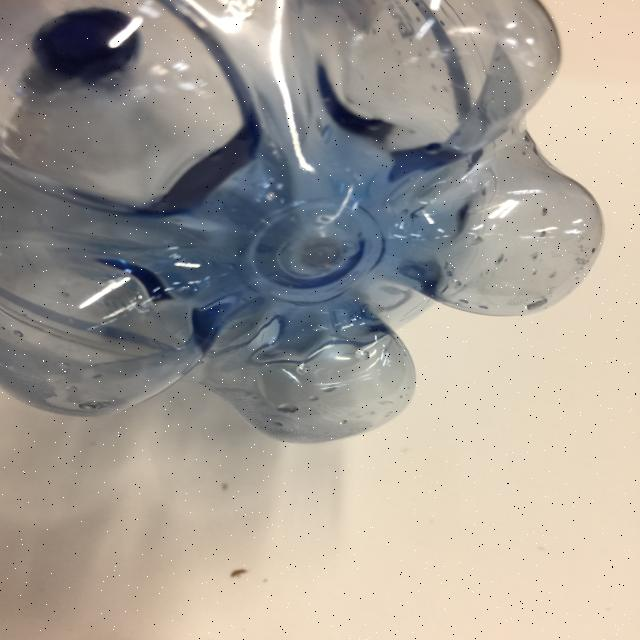plastic: (0, 0, 604, 444)
